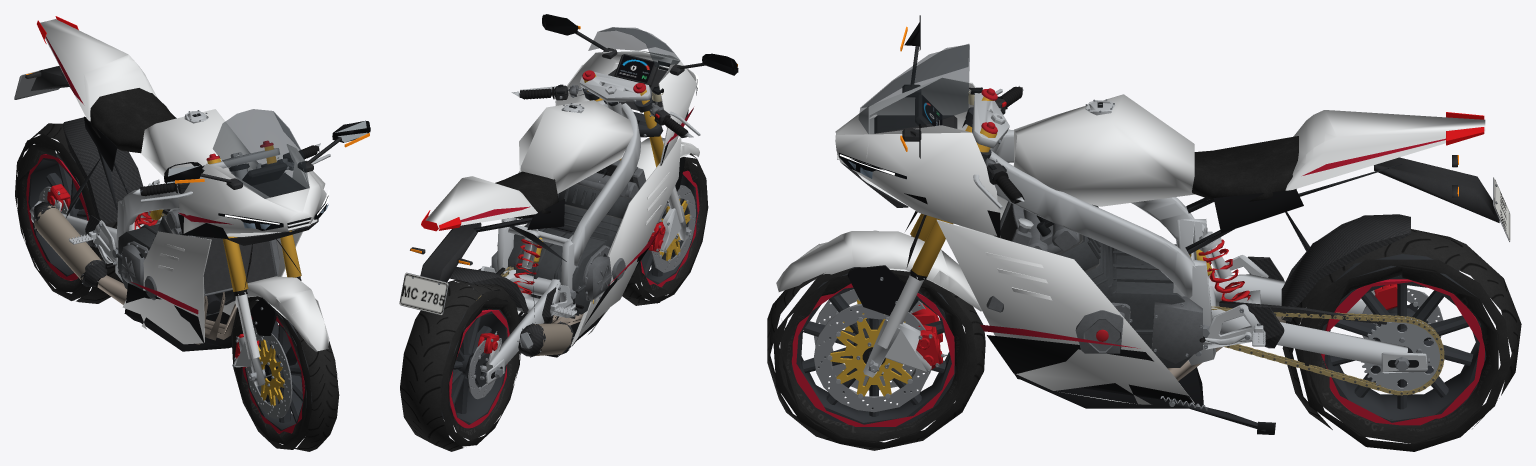
The model's file is sport-motorcycle.glb.
3 renders of one model, left to right at view 1: azimuth 30°, elevation 25°; view 2: azimuth 150°, elevation 25°; view 3: azimuth 270°, elevation 25°, orthographic. The views are drawn at different scales.
Visible parts, largest first — view 1: Body, Wheel_Front, Fork, Wheel_Rear, Swingarm; view 2: Body, Wheel_Rear, Fork, Wheel_Front, Swingarm; view 3: Body, Wheel_Rear, Wheel_Front, Fork, Swingarm, Side_Stand.
Boxes of the visible parts, left/top/right/bottom form: Body: left=14, top=16, right=370, bottom=351; Wheel_Front: left=231, top=296, right=339, bottom=451; Fork: left=133, top=140, right=330, bottom=386; Wheel_Rear: left=15, top=123, right=141, bottom=303; Swingarm: left=31, top=117, right=168, bottom=248; Body: left=399, top=14, right=738, bottom=357; Wheel_Rear: left=400, top=280, right=520, bottom=451; Fork: left=511, top=70, right=700, bottom=253; Wheel_Front: left=622, top=153, right=708, bottom=305; Swingarm: left=449, top=266, right=560, bottom=384; Body: left=835, top=15, right=1510, bottom=408; Wheel_Rear: left=1282, top=229, right=1521, bottom=451; Wheel_Front: left=767, top=267, right=985, bottom=450; Fork: left=776, top=86, right=1024, bottom=377; Swingarm: left=1208, top=214, right=1444, bottom=395; Side_Stand: left=1160, top=396, right=1275, bottom=434.
Bounding box in the file's own units: 0.8099 × 1.16 × 2.
51 materials, 11 textured.
